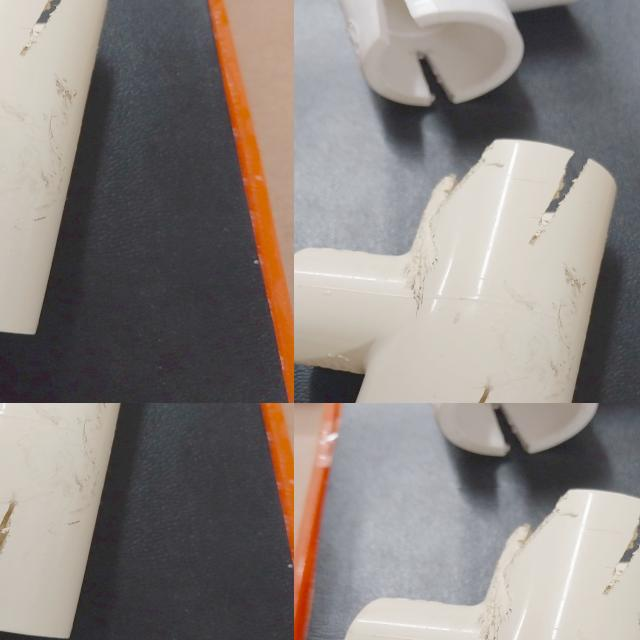Defective: (477, 508, 586, 640), (493, 405, 522, 455), (619, 515, 640, 567)
L Joint: (294, 0, 314, 21)
T Joint: (344, 489, 640, 640)
